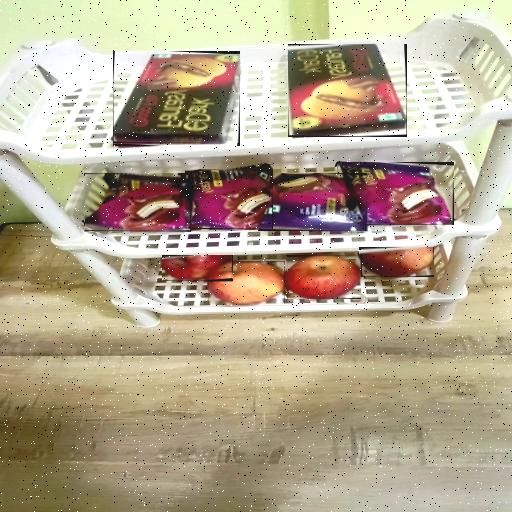Apple: (208, 262, 285, 304), (287, 256, 361, 299), (360, 247, 433, 277), (163, 255, 232, 281)
Choco Fills: (114, 54, 240, 143), (288, 44, 406, 136)
Choco Pie: (339, 162, 452, 225), (259, 173, 365, 231), (85, 173, 190, 231), (185, 164, 272, 229)
